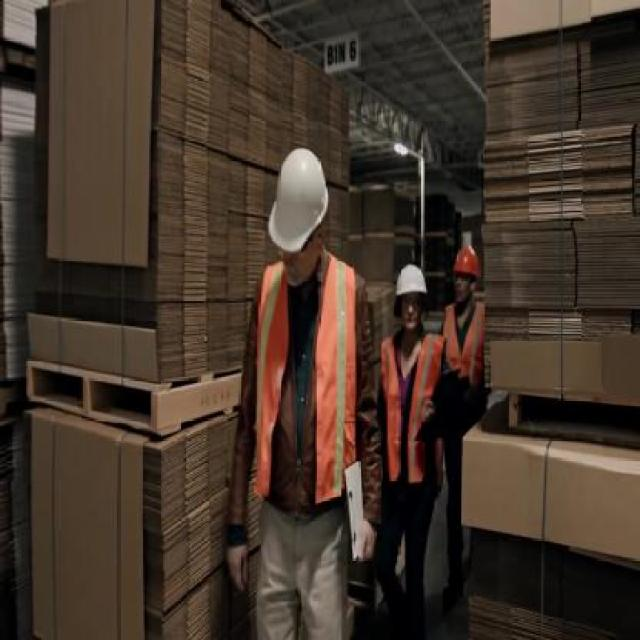Vest: (252, 248, 356, 500), (380, 328, 446, 487), (443, 299, 486, 387)
helmet: (266, 146, 332, 257), (394, 262, 429, 296), (453, 246, 481, 280)
person: (227, 142, 374, 640), (380, 261, 440, 631), (440, 242, 490, 618)
